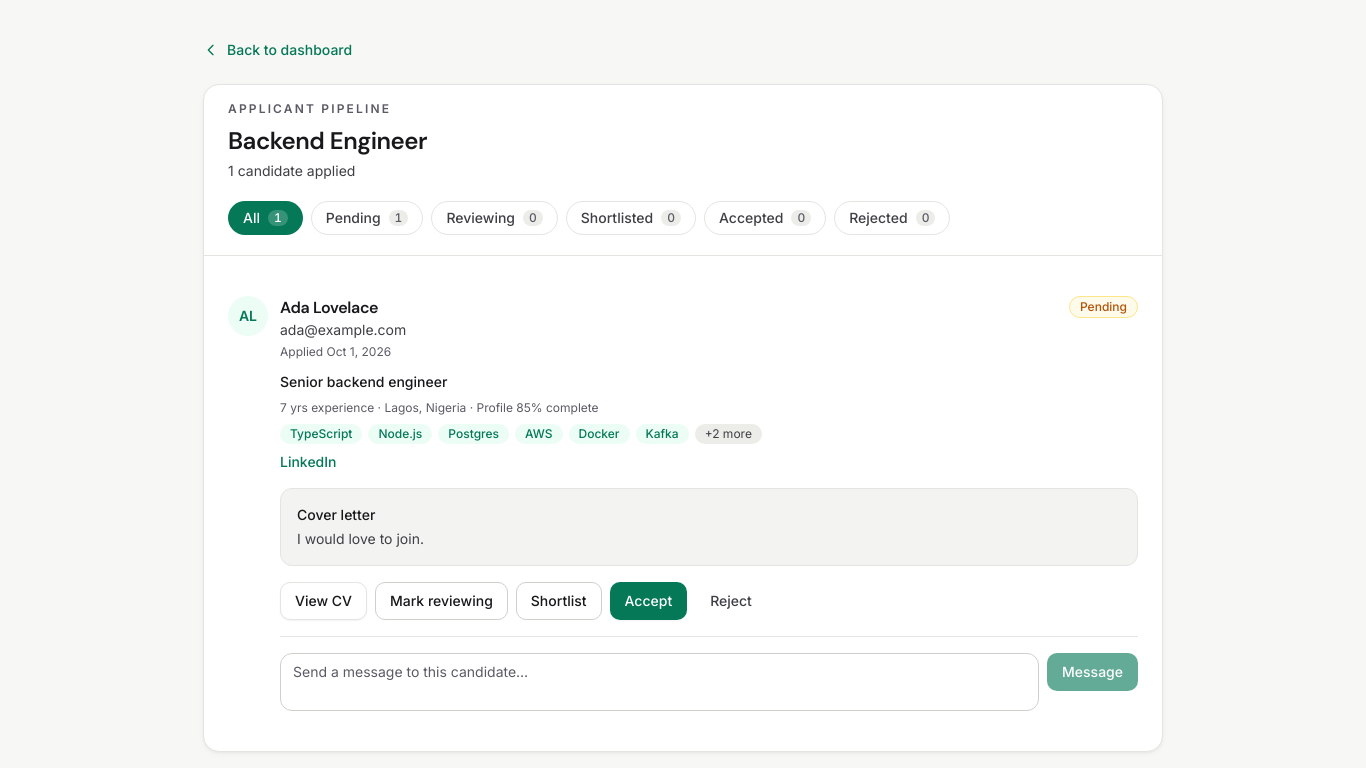
Test: Employer job applications page › shows CV text in a modal when no file URL is available
The width and height of the screenshot is (1366, 768).
Step 1. Click the button "View CV" → (324, 601), box x1=280 y1=582 x2=367 y2=620
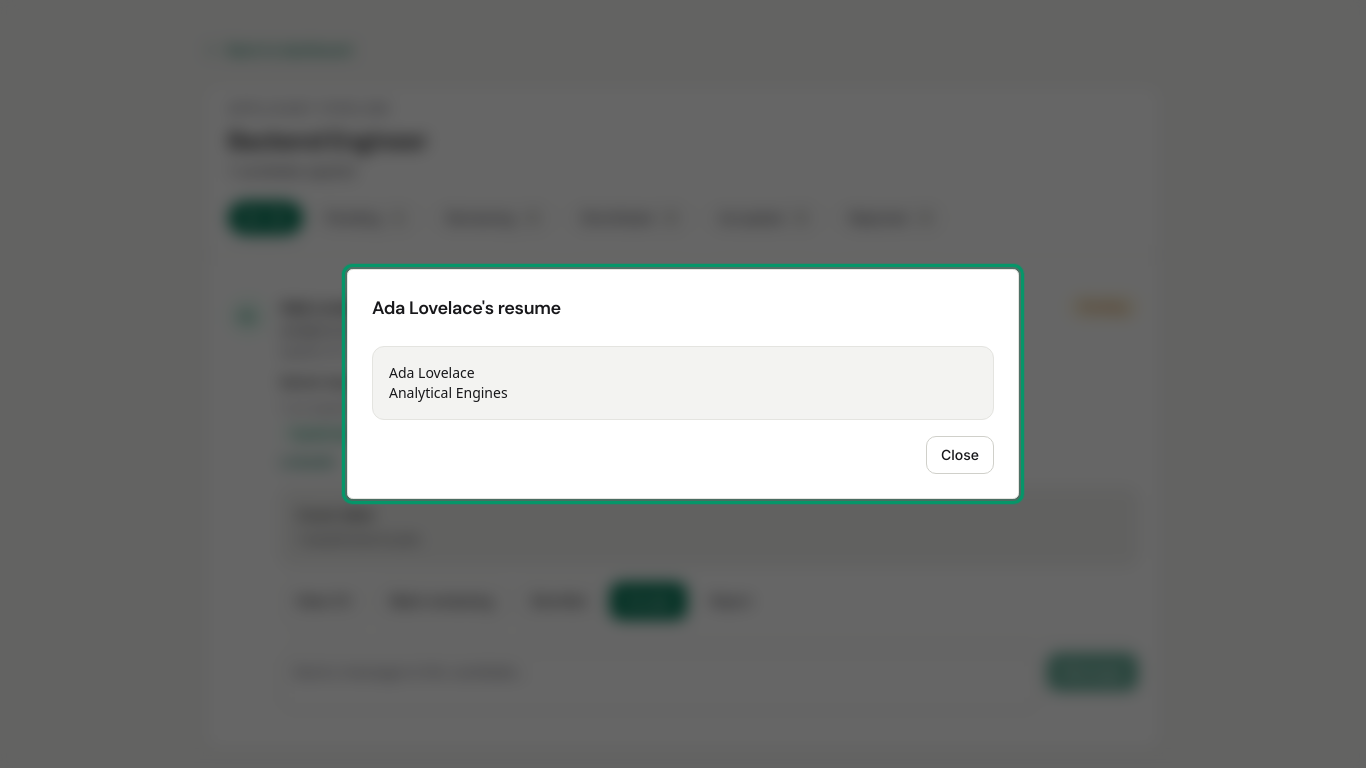
expect the text with test id "cv-text" shows "Analytical Engines": met, box x1=389 y1=363 x2=508 y2=402
